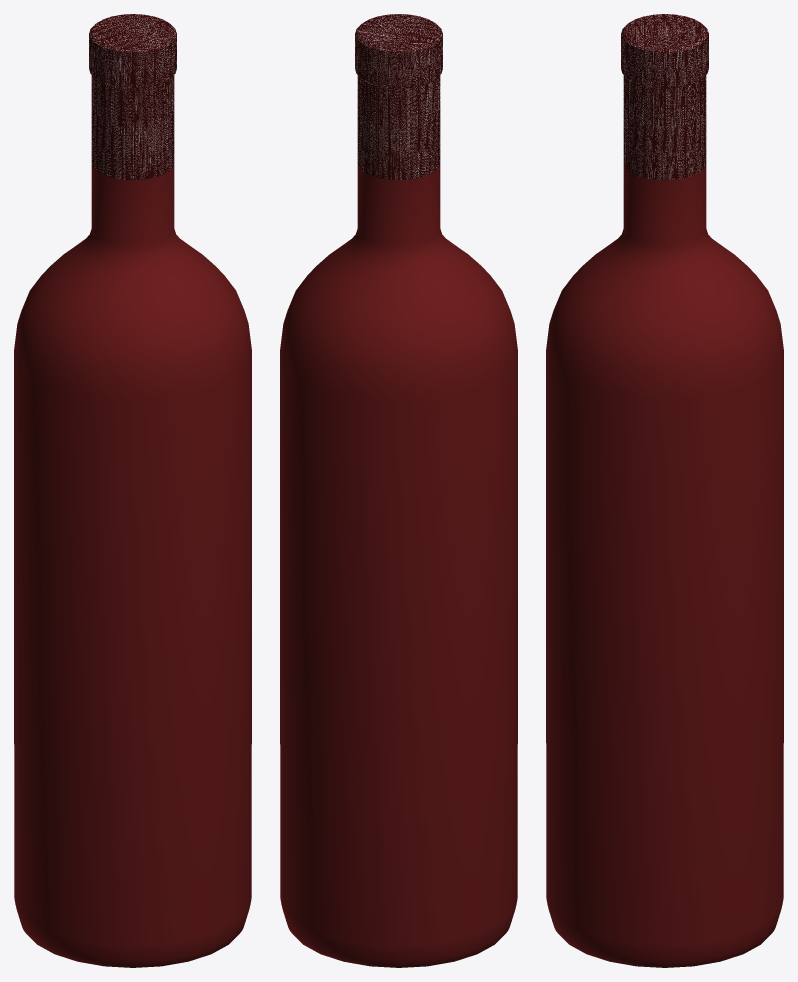
3 renders of one model, left to right at view 1: azimuth 30°, elevation 25°; view 2: azimuth 150°, elevation 25°; view 3: azimuth 270°, elevation 25°, orthographic.
Visible parts, largest first — view 1: mesh1_mesh1-geometry; view 2: mesh1_mesh1-geometry; view 3: mesh1_mesh1-geometry.
Part boxes in pixels (box(x1,y1,x2,y2)): mesh1_mesh1-geometry: box(14, 14, 251, 967); mesh1_mesh1-geometry: box(280, 14, 517, 967); mesh1_mesh1-geometry: box(546, 14, 783, 967).
Bounding box in the file's own units: 0.2291 × 0.9461 × 0.2291.
